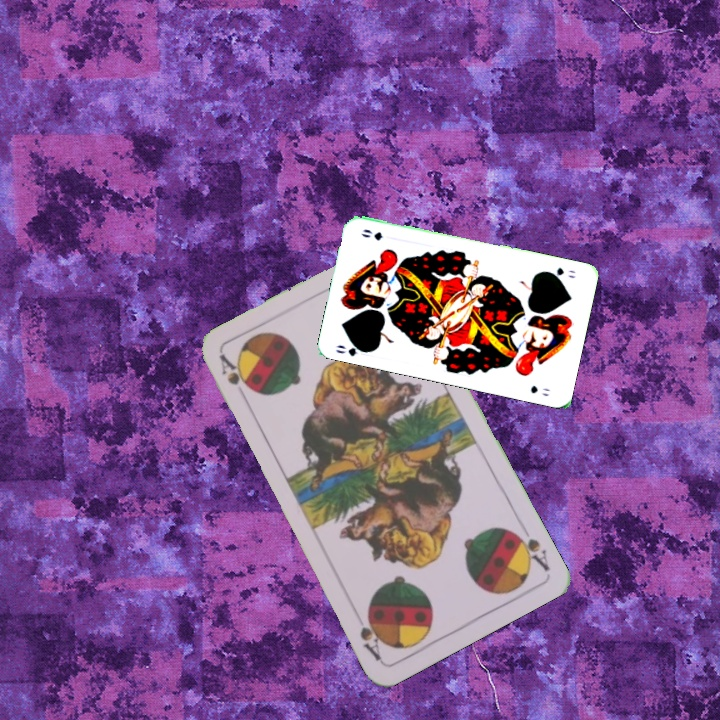GO: (332, 338, 372, 359), (541, 263, 578, 281)
SA: (507, 526, 552, 574), (215, 351, 252, 406)
